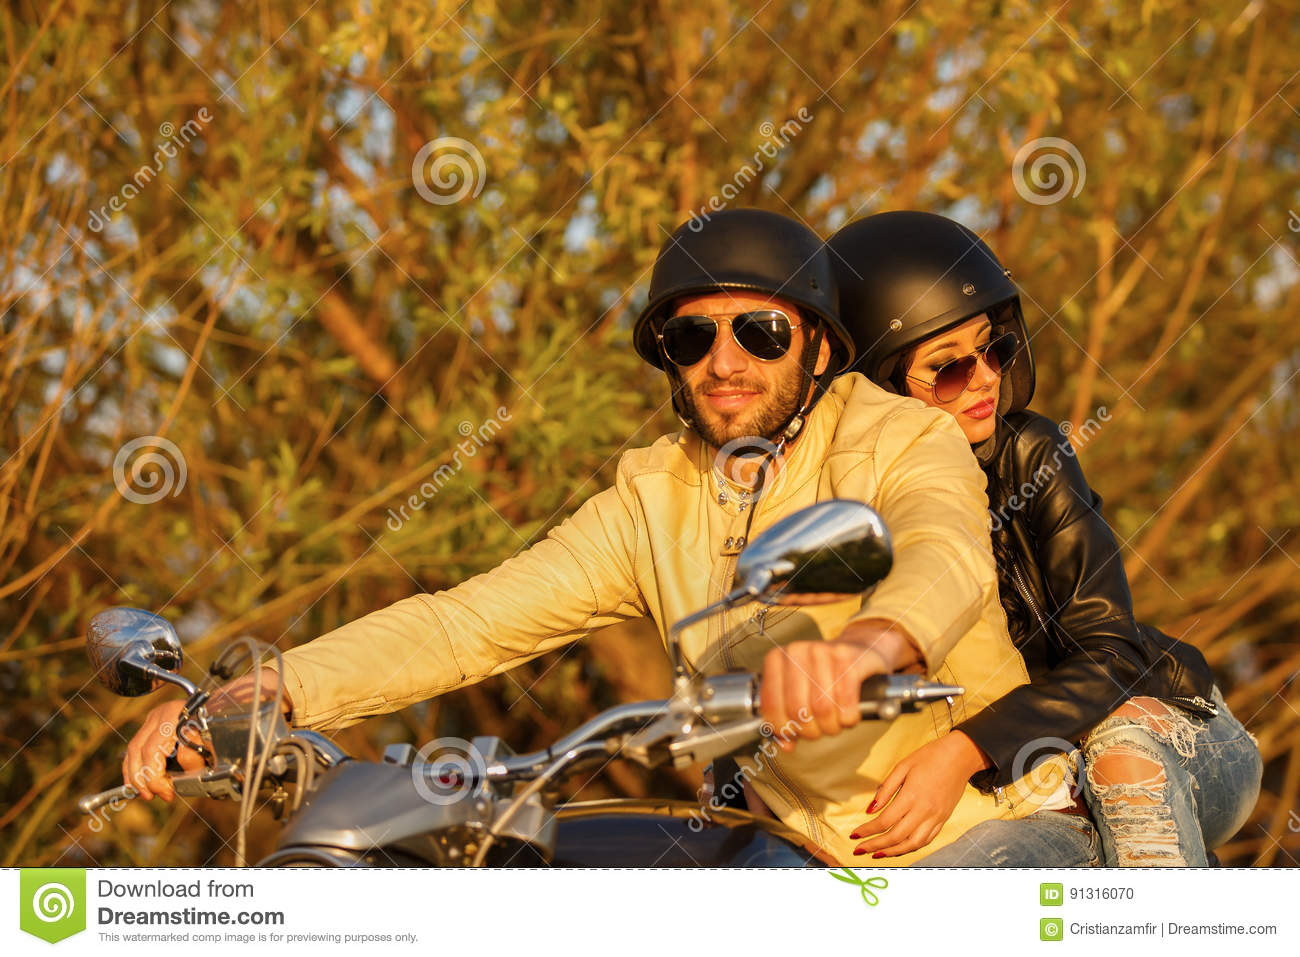helmet: (824, 207, 1026, 351), (632, 217, 848, 336)
